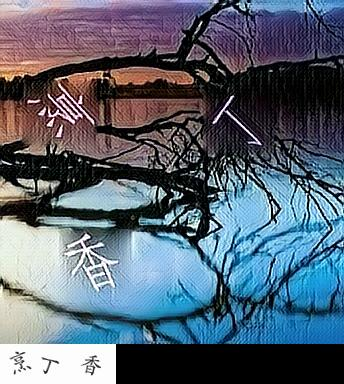character: (25, 80, 97, 142), (63, 230, 124, 298), (204, 92, 265, 149)
